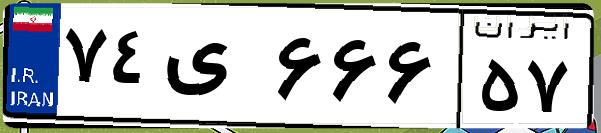4: (110, 28, 158, 98)
5: (475, 38, 525, 113)
6: (270, 28, 330, 110), (385, 28, 445, 110), (330, 28, 385, 110)
7: (57, 26, 110, 100), (525, 38, 570, 115)
ی: (158, 20, 270, 120)
